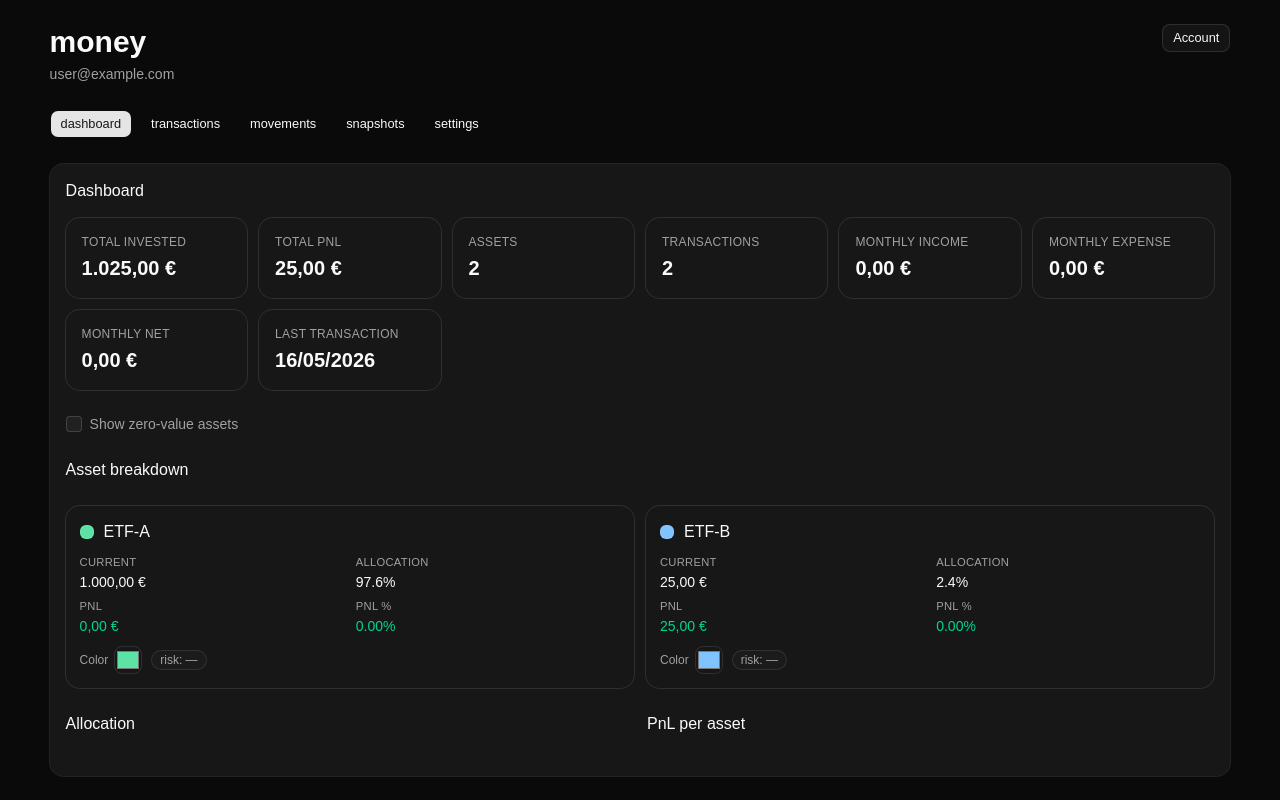
Test: Transactions form dynamic fields (issue #51) › asset combobox shows existing assets and selects on click
The image size is (1280, 800).
Check: the heading "Dashboard" is shown, box [66,182,144,199]
Click the link "transactions".
click(186, 124)  # box [151,116,220,131]
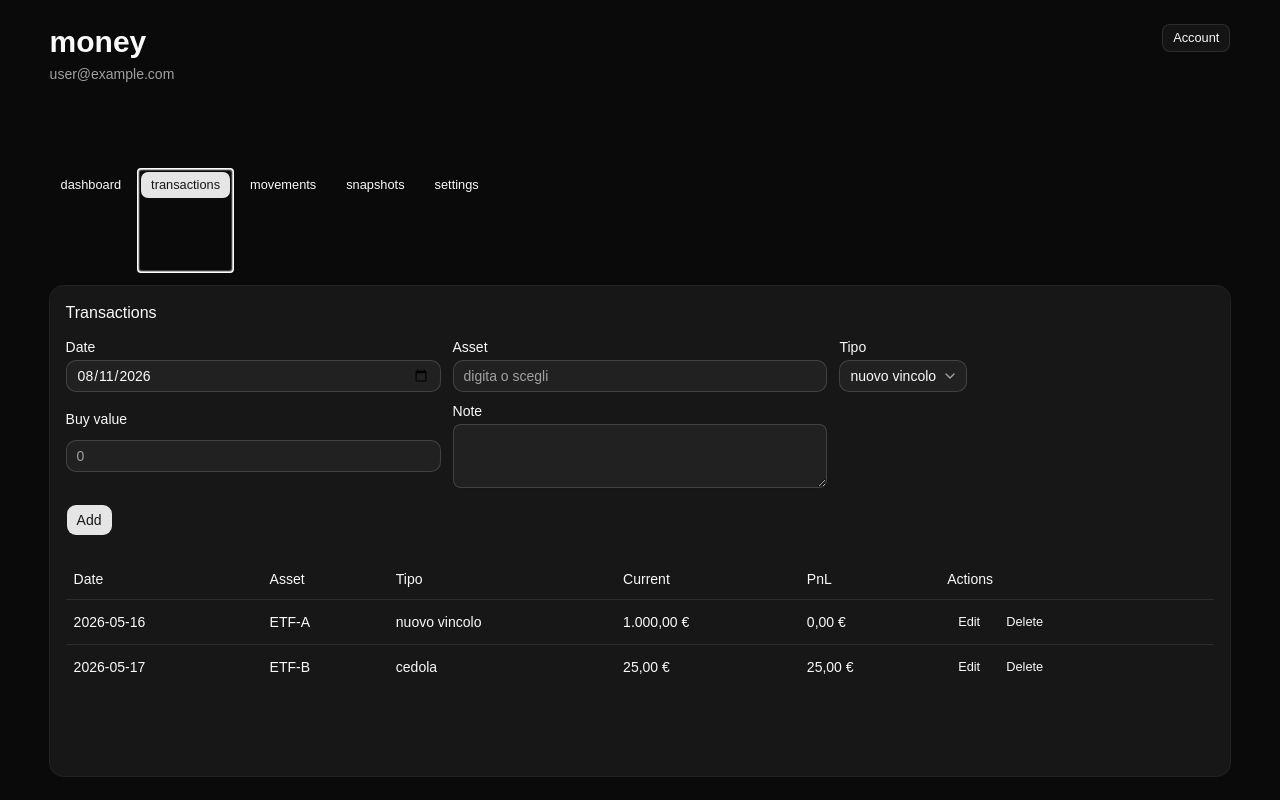
Click the dropdown labelled "Asset".
click(640, 376)  # box [452,360,827,392]
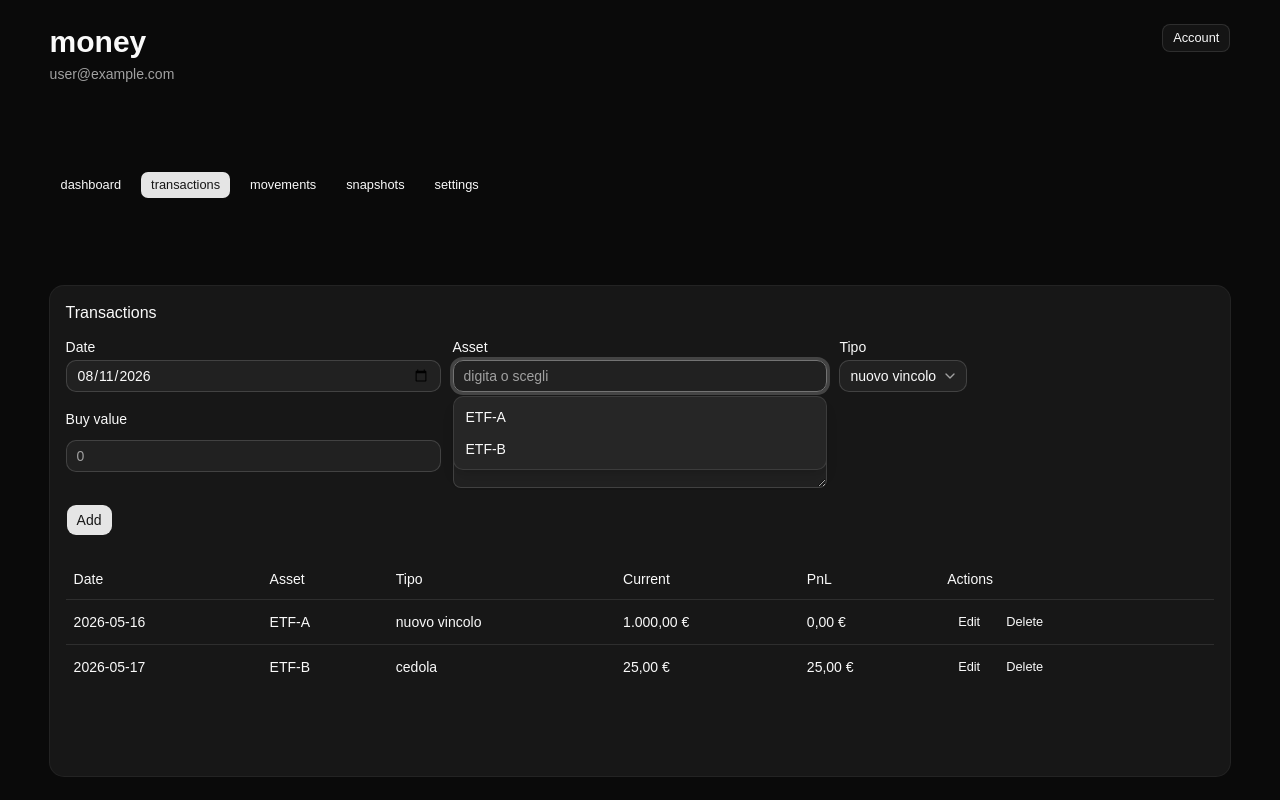
Check: the option "ETF-A" is shown
Check: the option "ETF-B" is shown, box [466,441,506,457]
Click the option "ETF-A".
click(486, 417)  # box [466,409,506,425]
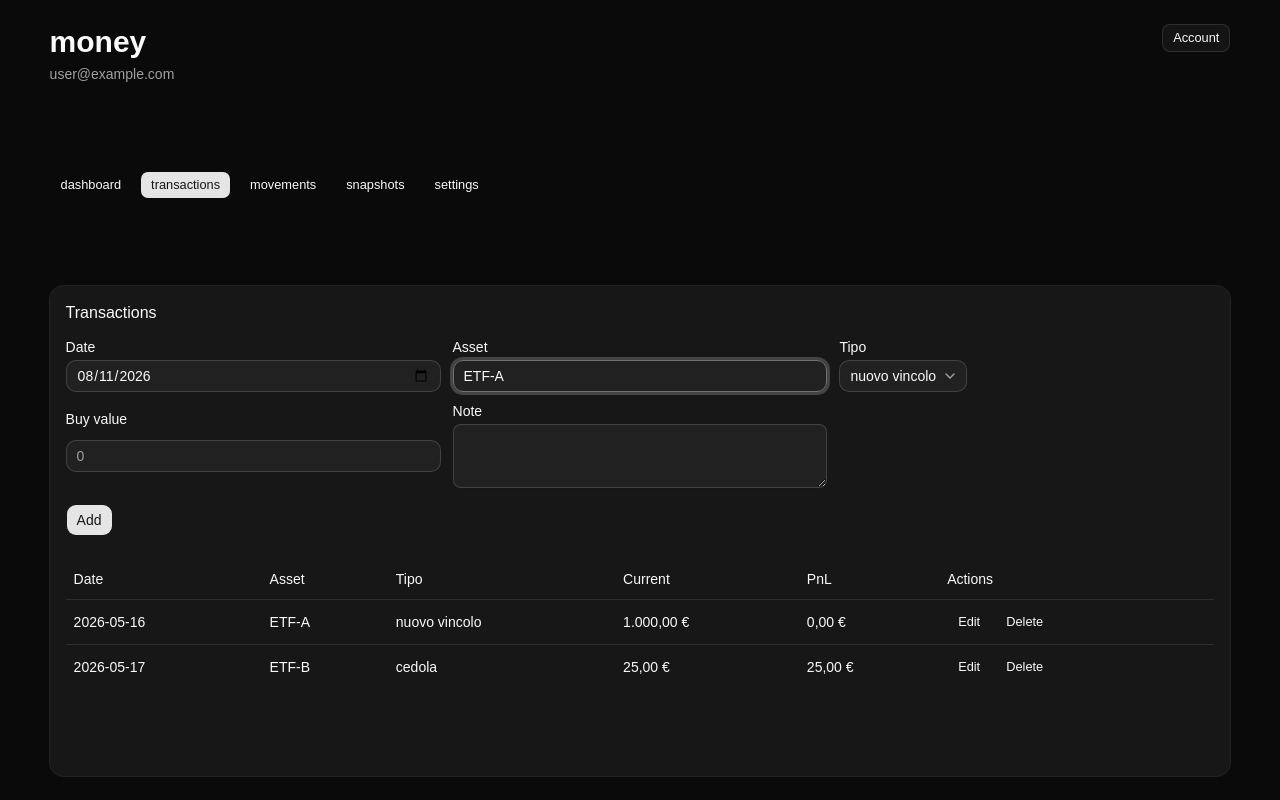
Check: the dropdown labelled "Asset" holds "ETF-A", box [452,360,827,392]
